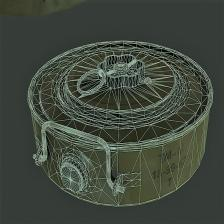TM-46: (31, 26, 213, 199)
